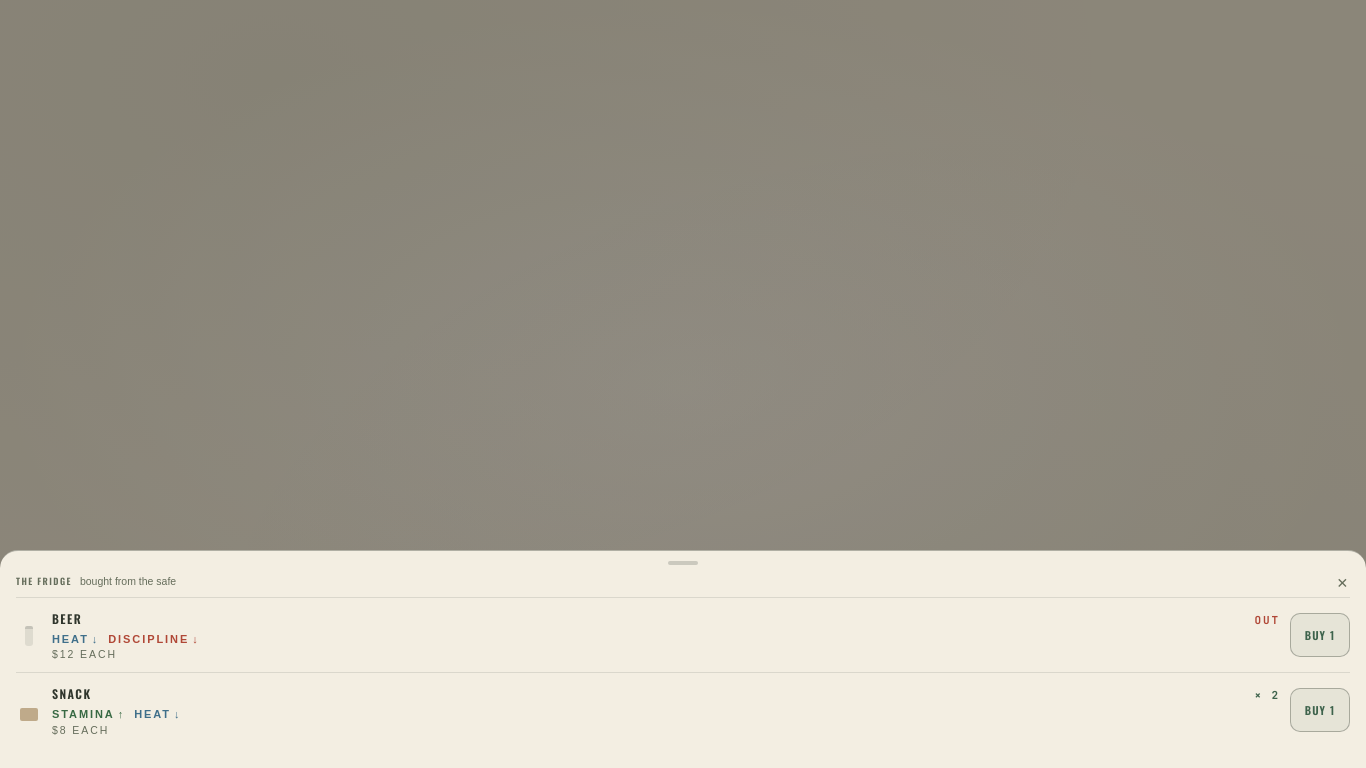
Test case: BUG-242: names each effect visibly and buys a single item at the quoted price
The width and height of the screenshot is (1366, 768).
Expected: the 1st text "Heat" is shown, [52, 632, 89, 647]
Expected: the text "Discipline" is shown, [108, 632, 189, 647]
Click the button with aria-label "Buy 1 beer": (1320, 636) [1290, 614, 1350, 658]
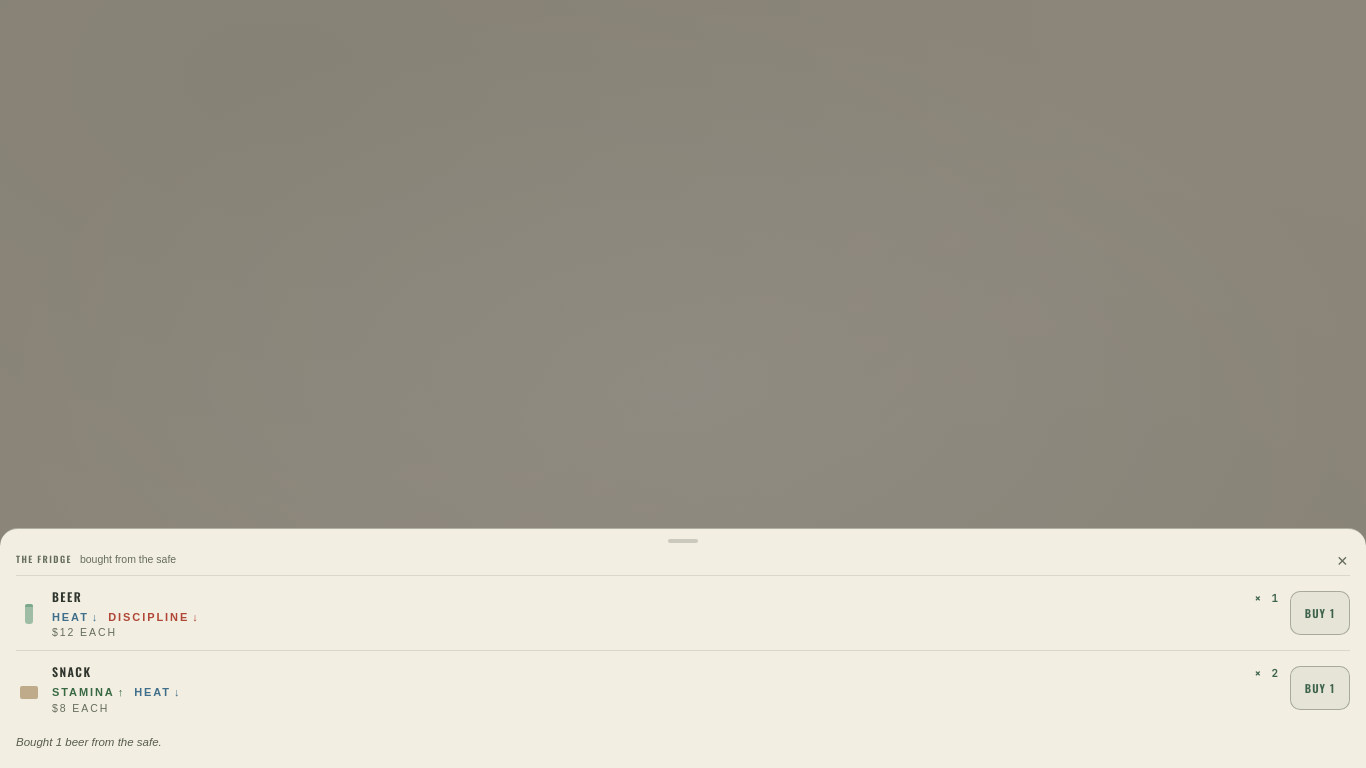
Expected: the text "Bought 1 beer from the safe." is shown, [16, 736, 162, 748]
Expected: the list item with test id "fridge-shelf-beer" shows "× 1", [16, 588, 1280, 639]
